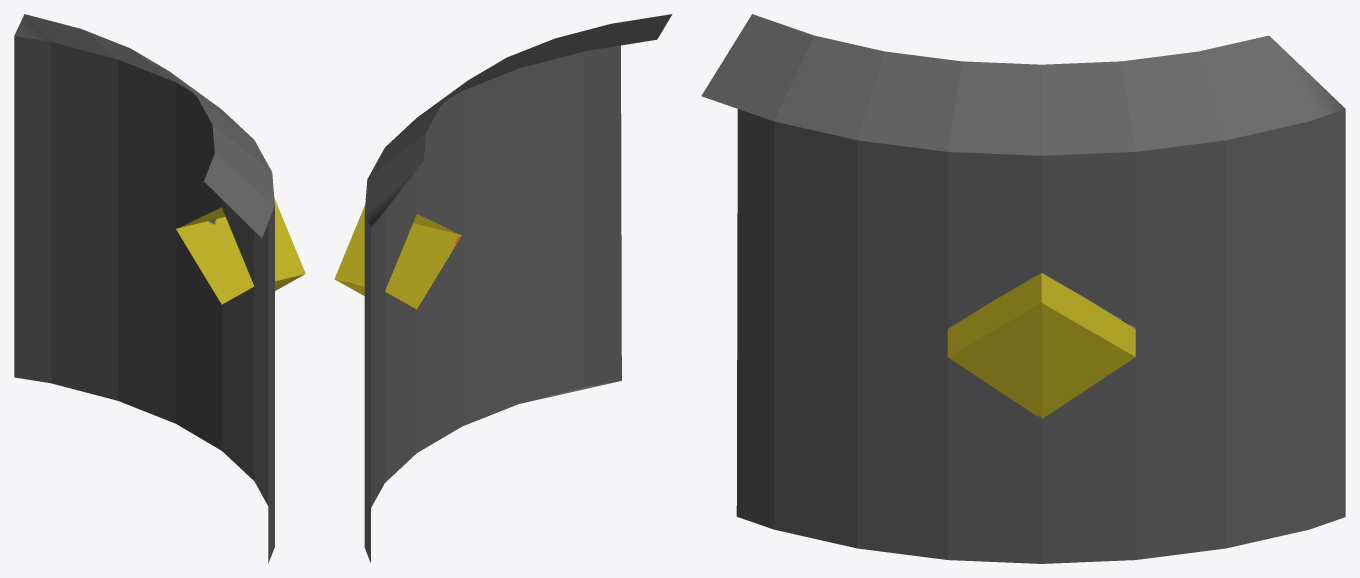
The model's file is enemyMiniRobotBreak04.obj.
3 renders of one model, left to right at view 1: azimuth 30°, elevation 25°; view 2: azimuth 150°, elevation 25°; view 3: azimuth 270°, elevation 25°, orthographic. The views are drawn at different scales.
Visible parts, largest first — view 1: 球; view 2: 球; view 3: 球.
Boxes of the visible parts, left/top/right/bottom form: 球: left=14, top=14, right=305, bottom=563; 球: left=334, top=14, right=672, bottom=562; 球: left=701, top=14, right=1345, bottom=563.
Bounding box in the file's own units: 0.5382 × 1.06 × 1.32.
Materials: 1 (1 with a texture image).
